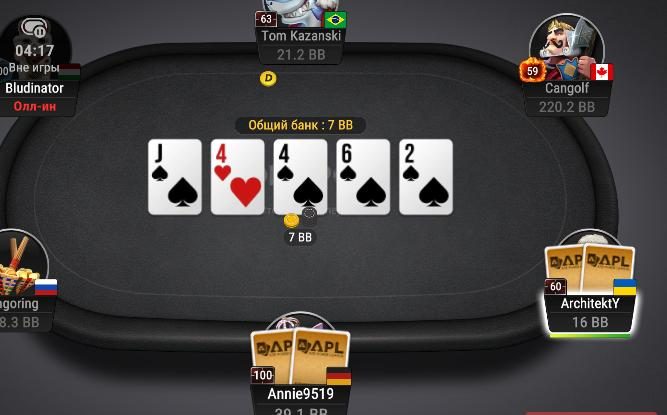2s: (399, 141, 454, 213)
4h: (212, 141, 265, 215)
4s: (274, 139, 328, 214)
6s: (336, 139, 391, 216)
Js: (149, 139, 200, 214)
